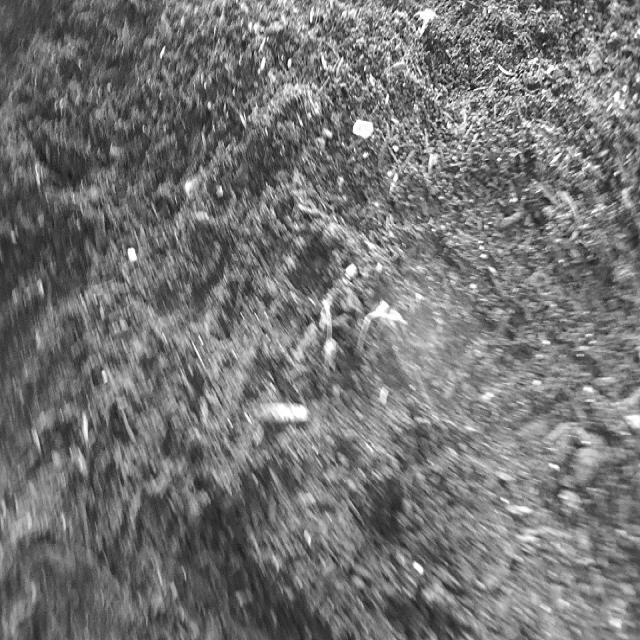Unhealthy: (307, 261, 416, 395)
